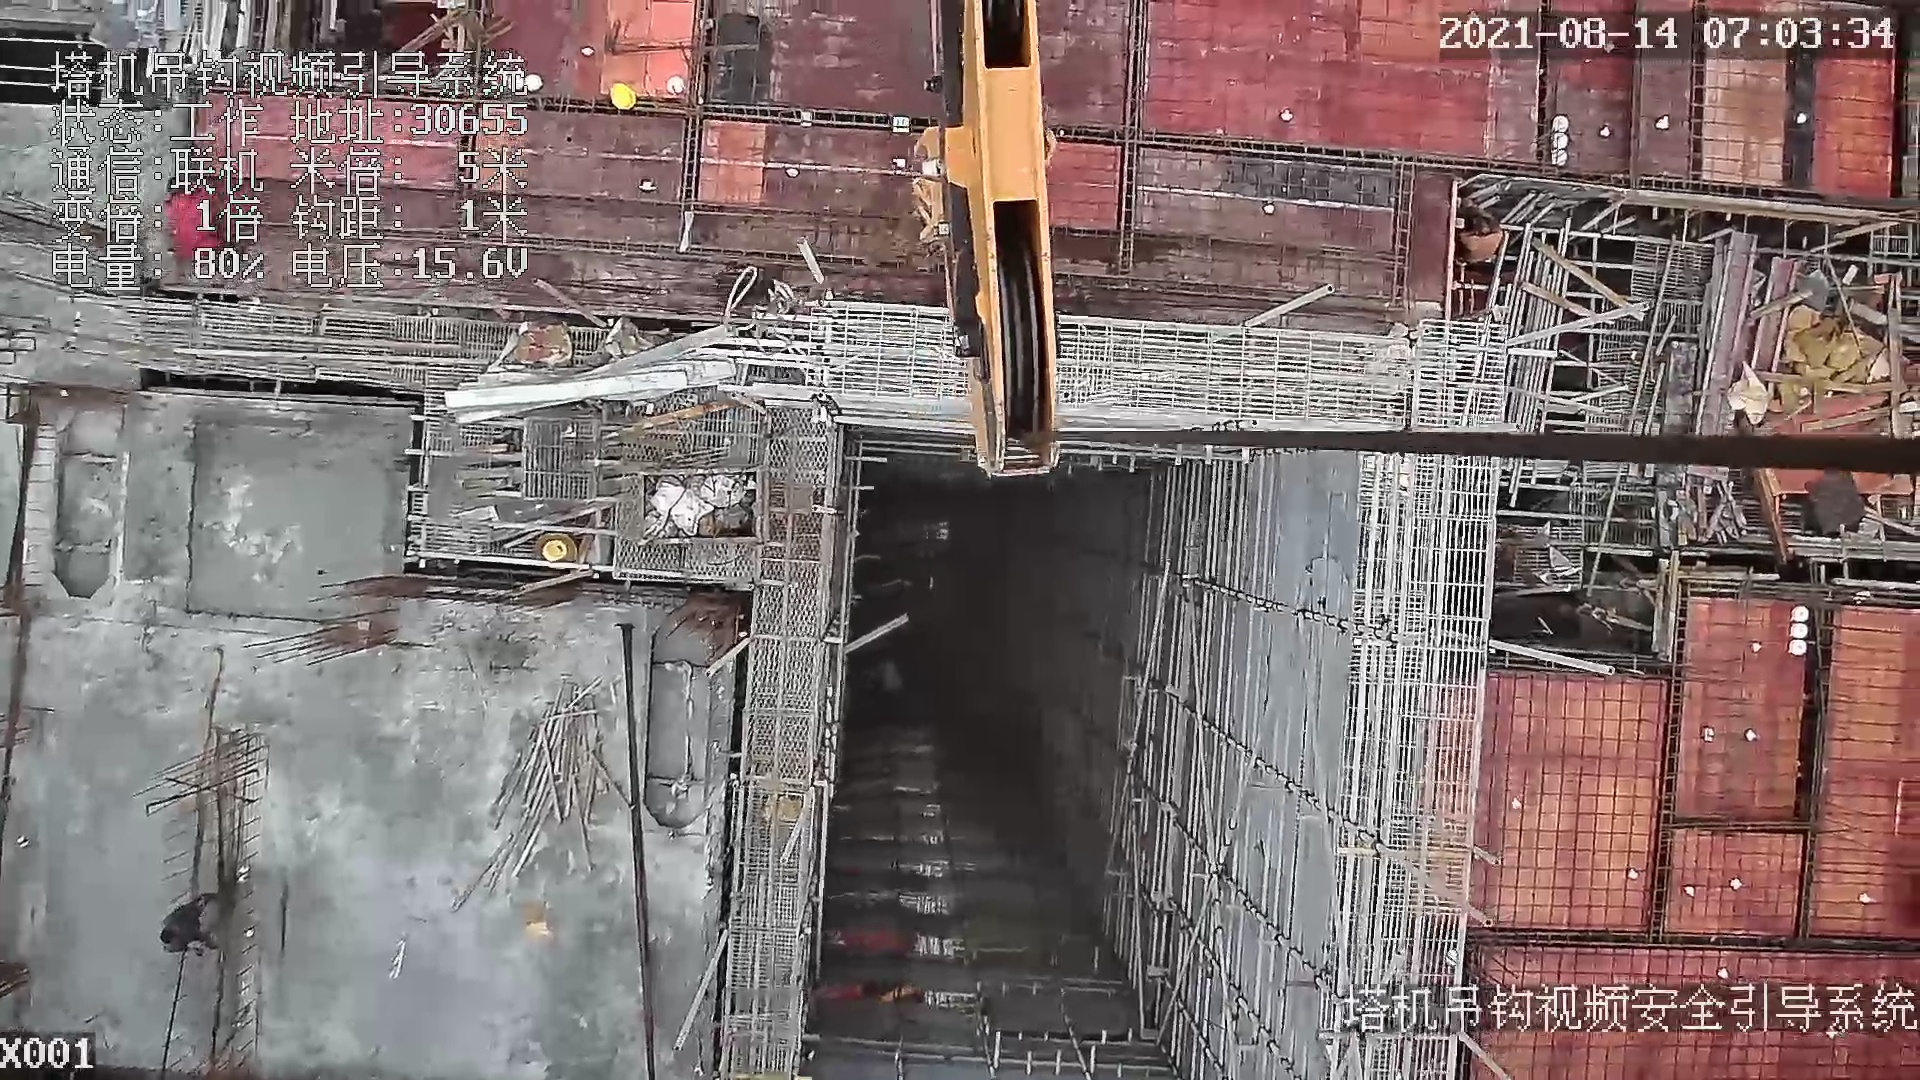helmet: (610, 79, 638, 109)
hook: (905, 1, 1070, 487)
person: (165, 176, 229, 261), (156, 889, 227, 956)
